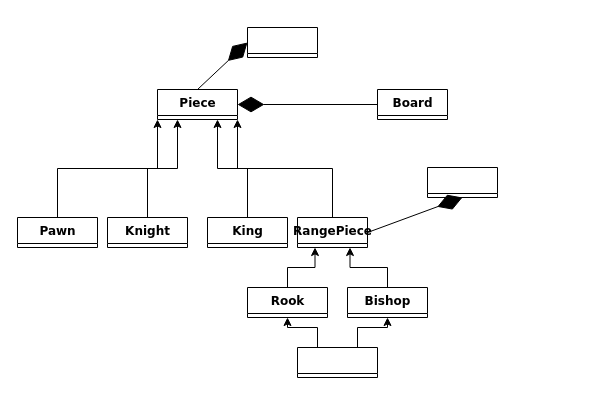
The diagram is 612 pixels wide and 395 high, and some of its shapes have lost their labels. The centre of each missing label's shape, as x and y in pixels:
"PieceDirection" belongs at point (462, 182).
"Queen" belongs at point (337, 362).
"Square" belongs at point (282, 42).
